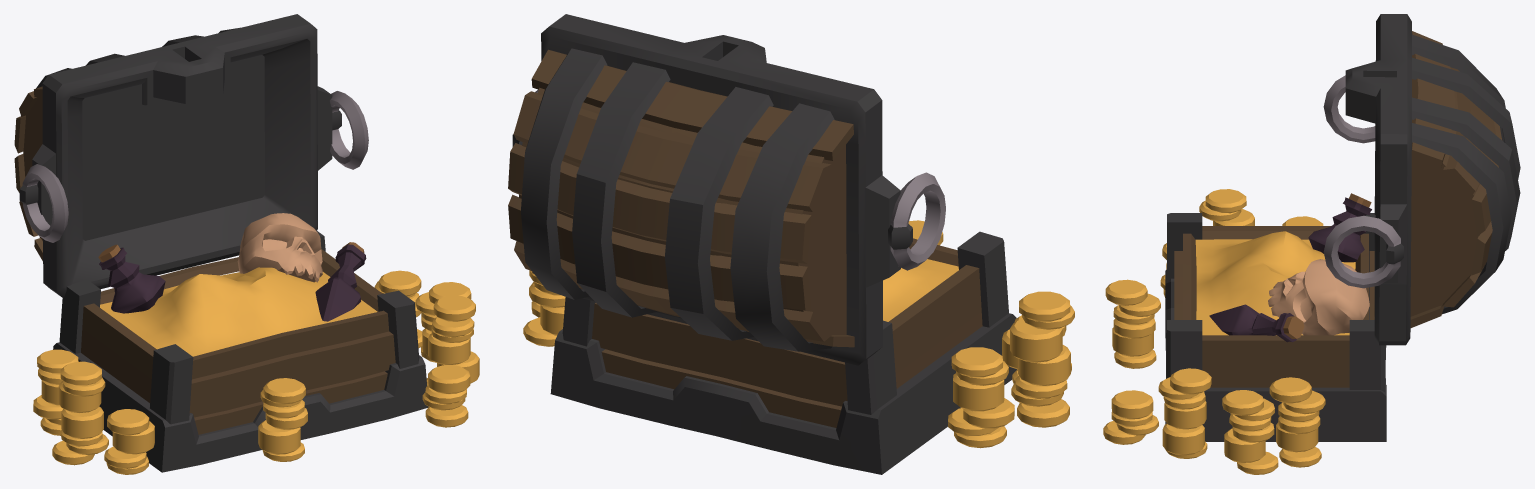
Rendered from chest_gold.glb.
3 renders of one model, left to right at view 1: azimuth 30°, elevation 25°; view 2: azimuth 150°, elevation 25°; view 3: azimuth 270°, elevation 25°, orthographic. The views are drawn at different scales.
Visible parts, largest first — view 1: Prop_Chest_Gold; view 2: Prop_Chest_Gold; view 3: Prop_Chest_Gold.
Boxes of the visible parts, left/top/right/bottom form: Prop_Chest_Gold: left=14, top=14, right=479, bottom=474; Prop_Chest_Gold: left=508, top=14, right=1074, bottom=474; Prop_Chest_Gold: left=1103, top=14, right=1520, bottom=474.
Bounding box in the file's own units: 1.82 × 1.29 × 1.59.
1 material, 1 textured.
